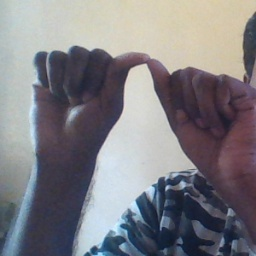A: (61, 34, 224, 147)
